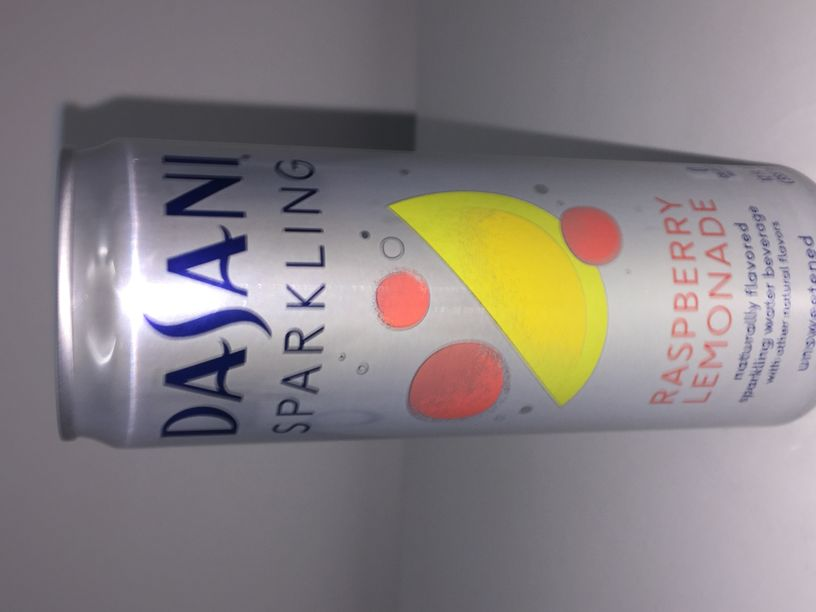lemonade: (55, 132, 816, 451)
